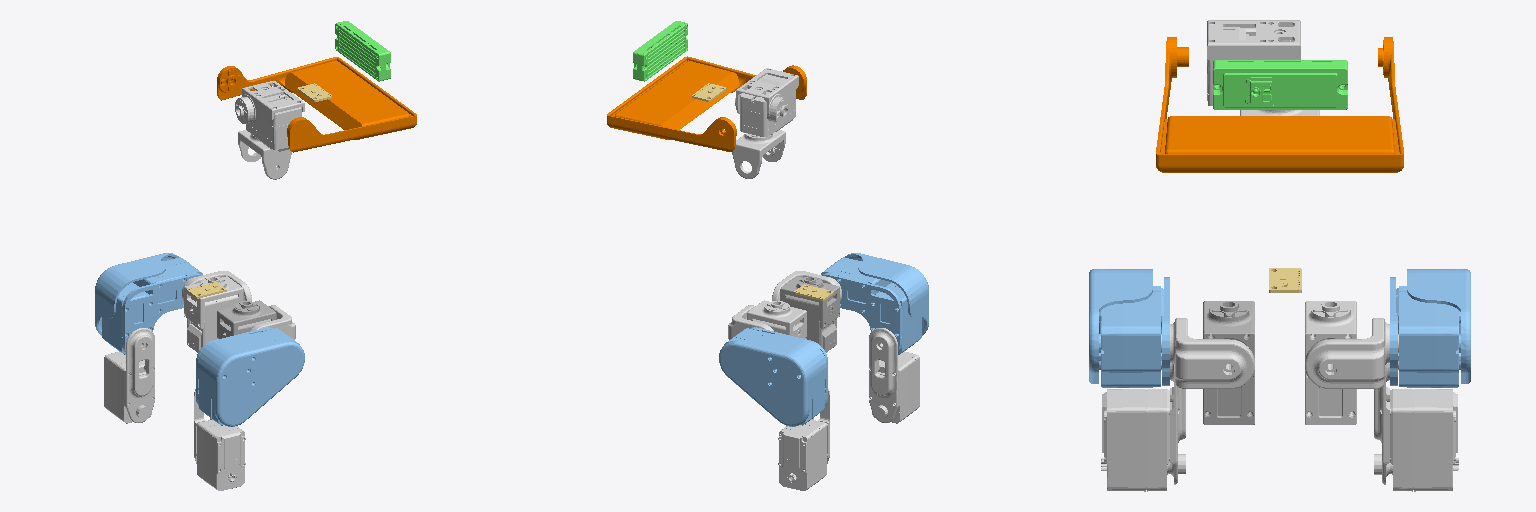
robot.urdf — duck_description:
<?xml version="1.0" encoding="utf-8"?>
<!-- This URDF was automatically created by SolidWorks to URDF Exporter! Originally created by Stephen Brawner (brawner@gmail.com) 
     Commit Version: 1.6.0-1-g15f4949  Build Version: 1.6.7594.29634
     For more information, please see http://wiki.ros.org/sw_urdf_exporter -->
<robot
  name="duck_description">
  <link
    name="base_link">
    <inertial>
      <origin
        xyz="-0.012938 5.4693E-05 0.14946"
        rpy="0 0 0" />
      <mass
        value="0.24013" />
      <inertia
        ixx="7.1931E-05"
        ixy="1.1129E-07"
        ixz="1.2683E-06"
        iyy="9.8159E-05"
        iyz="-5.5096E-08"
        izz="9.7082E-05" />
    </inertial>
    <visual>
      <origin
        xyz="0 0 0"
        rpy="0 0 0" />
      <geometry>
        <mesh
          filename="package://duck_description/meshes/base_link.STL" />
      </geometry>
      <material
        name="">
        <color
          rgba="0.75294 0.75294 0.75294 1" />
      </material>
    </visual>
    <collision>
      <origin
        xyz="0 0 0"
        rpy="0 0 0" />
      <geometry>
        <mesh
          filename="package://duck_description/meshes/base_link.STL" />
      </geometry>
    </collision>
  </link>
  <link
    name="imu_trunk">
    <inertial>
      <origin
        xyz="-0.0010369 5.9236E-05 -0.0012224"
        rpy="0 0 0" />
      <mass
        value="0.00062703" />
      <inertia
        ixx="3.3579E-08"
        ixy="-6.6997E-15"
        ixz="-1.7834E-14"
        iyy="1.2185E-08"
        iyz="1.3757E-15"
        izz="4.5501E-08" />
    </inertial>
    <visual>
      <origin
        xyz="0 0 0"
        rpy="0 0 0" />
      <geometry>
        <mesh
          filename="package://duck_description/meshes/imu_trunk.STL" />
      </geometry>
      <material
        name="">
        <color
          rgba="0.96863 0.87843 0.6 1" />
      </material>
    </visual>
    <collision>
      <origin
        xyz="0 0 0"
        rpy="0 0 0" />
      <geometry>
        <mesh
          filename="package://duck_description/meshes/imu_trunk.STL" />
      </geometry>
    </collision>
  </link>
  <joint
    name="imu_trunk"
    type="fixed">
    <origin
      xyz="-0.00615 0.001494 0.13508"
      rpy="0 0 -1.5708" />
    <parent
      link="base_link" />
    <child
      link="imu_trunk" />
    <axis
      xyz="0 0 0" />
  </joint>
  <link
    name="left_hip_yaw">
    <inertial>
      <origin
        xyz="0.00011846 0.00012525 -0.02829"
        rpy="0 0 0" />
      <mass
        value="0.051616" />
      <inertia
        ixx="8.9624E-06"
        ixy="-3.865E-10"
        ixz="-2.5666E-07"
        iyy="7.9407E-06"
        iyz="-1.2999E-09"
        izz="3.7009E-06" />
    </inertial>
    <visual>
      <origin
        xyz="0 0 0"
        rpy="0 0 0" />
      <geometry>
        <mesh
          filename="package://duck_description/meshes/left_hip_yaw.STL" />
      </geometry>
      <material
        name="">
        <color
          rgba="0.89412 0.89412 0.89412 1" />
      </material>
    </visual>
    <collision>
      <origin
        xyz="0 0 0"
        rpy="0 0 0" />
      <geometry>
        <mesh
          filename="package://duck_description/meshes/left_hip_yaw.STL" />
      </geometry>
    </collision>
  </link>
  <joint
    name="left_hip_yaw"
    type="revolute">
    <origin
      xyz="0.0125 0.0245 0.12725"
      rpy="0 0 0" />
    <parent
      link="base_link" />
    <child
      link="left_hip_yaw" />
    <axis
      xyz="0 0 1" />
    <limit
      lower="0"
      upper="0"
      effort="0"
      velocity="0" />
  </joint>
  <link
    name="left_hip_roll">
    <inertial>
      <origin
        xyz="-7.903E-06 0.014814 0.014726"
        rpy="0 0 0" />
      <mass
        value="0.015985" />
      <inertia
        ixx="3.8914E-06"
        ixy="2.0916E-12"
        ixz="-5.1023E-11"
        iyy="2.6235E-06"
        iyz="-1.1833E-06"
        izz="2.56E-06" />
    </inertial>
    <visual>
      <origin
        xyz="0 0 0"
        rpy="0 0 0" />
      <geometry>
        <mesh
          filename="package://duck_description/meshes/left_hip_roll.STL" />
      </geometry>
      <material
        name="">
        <color
          rgba="0.89412 0.89412 0.89412 1" />
      </material>
    </visual>
    <collision>
      <origin
        xyz="0 0 0"
        rpy="0 0 0" />
      <geometry>
        <mesh
          filename="package://duck_description/meshes/left_hip_roll.STL" />
      </geometry>
    </collision>
  </link>
  <joint
    name="left_hip_roll"
    type="revolute">
    <origin
      xyz="0.02938 0 -0.0182"
      rpy="0 -1.5708 0" />
    <parent
      link="left_hip_yaw" />
    <child
      link="left_hip_roll" />
    <axis
      xyz="0 0 1" />
    <limit
      lower="0"
      upper="0"
      effort="0"
      velocity="0" />
  </joint>
  <link
    name="left_hip_pitch">
    <inertial>
      <origin
        xyz="-0.031356 0.008146 0.028436"
        rpy="0 0 0" />
      <mass
        value="0.1031" />
      <inertia
        ixx="1.421E-05"
        ixy="1.1121E-06"
        ixz="-7.1167E-07"
        iyy="1.7342E-05"
        iyz="-7.6325E-07"
        izz="2.7271E-05" />
    </inertial>
    <visual>
      <origin
        xyz="0 0 0"
        rpy="0 0 0" />
      <geometry>
        <mesh
          filename="package://duck_description/meshes/left_hip_pitch.STL" />
      </geometry>
      <material
        name="">
        <color
          rgba="0.623529411764706 0.827450980392157 1 1" />
      </material>
    </visual>
    <collision>
      <origin
        xyz="0 0 0"
        rpy="0 0 0" />
      <geometry>
        <mesh
          filename="package://duck_description/meshes/left_hip_pitch.STL" />
      </geometry>
    </collision>
  </link>
  <joint
    name="left_hip_pitch"
    type="revolute">
    <origin
      xyz="0 0.0199 0.02938"
      rpy="1.5708 1.5708 3.1416" />
    <parent
      link="left_hip_roll" />
    <child
      link="left_hip_pitch" />
    <axis
      xyz="0 0 1" />
    <limit
      lower="0"
      upper="0"
      effort="0"
      velocity="0" />
  </joint>
  <link
    name="left_knee">
    <inertial>
      <origin
        xyz="0.00012581 0.037819 0.020408"
        rpy="0 0 0" />
      <mass
        value="0.051464" />
      <inertia
        ixx="1.011E-05"
        ixy="-1.0643E-09"
        ixz="-3.771E-10"
        iyy="2.8633E-06"
        iyz="2.9834E-08"
        izz="1.1652E-05" />
    </inertial>
    <visual>
      <origin
        xyz="0 0 0"
        rpy="0 0 0" />
      <geometry>
        <mesh
          filename="package://duck_description/meshes/left_knee.STL" />
      </geometry>
      <material
        name="">
        <color
          rgba="0.89412 0.89412 0.89412 1" />
      </material>
    </visual>
    <collision>
      <origin
        xyz="0 0 0"
        rpy="0 0 0" />
      <geometry>
        <mesh
          filename="package://duck_description/meshes/left_knee.STL" />
      </geometry>
    </collision>
  </link>
  <joint
    name="left_knee"
    type="revolute">
    <origin
      xyz="-0.0476 0.0313 0.0009"
      rpy="0 0 0" />
    <parent
      link="left_hip_pitch" />
    <child
      link="left_knee" />
    <axis
      xyz="0 0 1" />
    <limit
      lower="0"
      upper="0"
      effort="0"
      velocity="0" />
  </joint>
  <link
    name="left_ankle">
    <inertial>
      <origin
        xyz="0.0060624 -0.012193 0.020606"
        rpy="0 0 0" />
      <mass
        value="0.036632" />
      <inertia
        ixx="8.5264E-06"
        ixy="-1.9177E-07"
        ixz="-1.3408E-08"
        iyy="1.8518E-05"
        iyz="9.0623E-08"
        izz="1.1561E-05" />
    </inertial>
    <visual>
      <origin
        xyz="0 0 0"
        rpy="0 0 0" />
      <geometry>
        <mesh
          filename="package://duck_description/meshes/left_ankle.STL" />
      </geometry>
      <material
        name="">
        <color
          rgba="1 1 0 1" />
      </material>
    </visual>
    <collision>
      <origin
        xyz="0 0 0"
        rpy="0 0 0" />
      <geometry>
        <mesh
          filename="package://duck_description/meshes/left_ankle.STL" />
      </geometry>
    </collision>
  </link>
  <joint
    name="left_ankle"
    type="revolute">
    <origin
      xyz="0 0.05515 0.04318"
      rpy="-3.1416 0 0" />
    <parent
      link="left_knee" />
    <child
      link="left_ankle" />
    <axis
      xyz="0 0 1" />
    <limit
      lower="0"
      upper="0"
      effort="0"
      velocity="0" />
  </joint>
  <link
    name="right_hip_yaw">
    <inertial>
      <origin
        xyz="0.00011846 0.00012525 -0.02829"
        rpy="0 0 0" />
      <mass
        value="0.051616" />
      <inertia
        ixx="8.9624E-06"
        ixy="-3.865E-10"
        ixz="-2.5666E-07"
        iyy="7.9407E-06"
        iyz="-1.2999E-09"
        izz="3.7009E-06" />
    </inertial>
    <visual>
      <origin
        xyz="0 0 0"
        rpy="0 0 0" />
      <geometry>
        <mesh
          filename="package://duck_description/meshes/right_hip_yaw.STL" />
      </geometry>
      <material
        name="">
        <color
          rgba="0.75294 0.75294 0.75294 1" />
      </material>
    </visual>
    <collision>
      <origin
        xyz="0 0 0"
        rpy="0 0 0" />
      <geometry>
        <mesh
          filename="package://duck_description/meshes/right_hip_yaw.STL" />
      </geometry>
    </collision>
  </link>
  <joint
    name="right_hip_yaw"
    type="revolute">
    <origin
      xyz="0.0125 -0.0245 0.12725"
      rpy="0 0 0" />
    <parent
      link="base_link" />
    <child
      link="right_hip_yaw" />
    <axis
      xyz="0 0 1" />
    <limit
      lower="0"
      upper="0"
      effort="0"
      velocity="0" />
  </joint>
  <link
    name="right_hip_roll">
    <inertial>
      <origin
        xyz="-7.88409496666614E-06 -0.0148142883676243 0.0147264378503851"
        rpy="0 0 0" />
      <mass
        value="0.0159849446274238" />
      <inertia
        ixx="3.89142456005809E-06"
        ixy="2.09161996956269E-12"
        ixz="-4.75251998759574E-11"
        iyy="2.62353920590714E-06"
        iyz="1.18325997583147E-06"
        izz="2.5600350437619E-06" />
    </inertial>
    <visual>
      <origin
        xyz="0 0 0"
        rpy="0 0 0" />
      <geometry>
        <mesh
          filename="package://duck_description/meshes/right_hip_roll.STL" />
      </geometry>
      <material
        name="">
        <color
          rgba="0.894117647058823 0.894117647058823 0.894117647058823 1" />
      </material>
    </visual>
    <collision>
      <origin
        xyz="0 0 0"
        rpy="0 0 0" />
      <geometry>
        <mesh
          filename="package://duck_description/meshes/right_hip_roll.STL" />
      </geometry>
    </collision>
  </link>
  <joint
    name="right_hip_roll"
    type="revolute">
    <origin
      xyz="0.02938 0 -0.0182"
      rpy="0 -1.5708 0" />
    <parent
      link="right_hip_yaw" />
    <child
      link="right_hip_roll" />
    <axis
      xyz="0 0 1" />
    <limit
      lower="0"
      upper="0"
      effort="0"
      velocity="0" />
  </joint>
  <link
    name="right_hip_pitch">
    <inertial>
      <origin
        xyz="-0.0312185143901472 -0.00802967335681209 0.0285774237350866"
        rpy="0 0 0" />
      <mass
        value="0.10231760265245" />
      <inertia
        ixx="1.40628758220275E-05"
        ixy="-1.03878194814449E-06"
        ixz="-7.09545910746289E-07"
        iyy="1.70642069202652E-05"
        iyz="7.62640693742252E-07"
        izz="2.68468147965349E-05" />
    </inertial>
    <visual>
      <origin
        xyz="0 0 0"
        rpy="0 0 0" />
      <geometry>
        <mesh
          filename="package://duck_description/meshes/right_hip_pitch.STL" />
      </geometry>
      <material
        name="">
        <color
          rgba="0.623529411764706 0.827450980392157 1 1" />
      </material>
    </visual>
    <collision>
      <origin
        xyz="0 0 0"
        rpy="0 0 0" />
      <geometry>
        <mesh
          filename="package://duck_description/meshes/right_hip_pitch.STL" />
      </geometry>
    </collision>
  </link>
  <joint
    name="right_hip_pitch"
    type="revolute">
    <origin
      xyz="0 -0.0199 0.02938"
      rpy="1.5708 1.5708 0" />
    <parent
      link="right_hip_roll" />
    <child
      link="right_hip_pitch" />
    <axis
      xyz="0 0 1" />
    <limit
      lower="0"
      upper="0"
      effort="0"
      velocity="0" />
  </joint>
  <link
    name="right_knee">
    <inertial>
      <origin
        xyz="-0.00012581489427578 -0.0378185333727036 0.0204081724374644"
        rpy="0 0 0" />
      <mass
        value="0.0514638464682465" />
      <inertia
        ixx="1.0110420942603E-05"
        ixy="-1.06427087010513E-09"
        ixz="3.77094010133538E-10"
        iyy="2.86325621762315E-06"
        iyz="-2.98336710269881E-08"
        izz="1.16517445518922E-05" />
    </inertial>
    <visual>
      <origin
        xyz="0 0 0"
        rpy="0 0 0" />
      <geometry>
        <mesh
          filename="package://duck_description/meshes/right_knee.STL" />
      </geometry>
      <material
        name="">
        <color
          rgba="0.894117647058823 0.894117647058823 0.894117647058823 1" />
      </material>
    </visual>
    <collision>
      <origin
        xyz="0 0 0"
        rpy="0 0 0" />
      <geometry>
        <mesh
          filename="package://duck_description/meshes/right_knee.STL" />
      </geometry>
    </collision>
  </link>
  <joint
    name="right_knee"
    type="revolute">
    <origin
      xyz="-0.0476 -0.0313 0.0009"
      rpy="0 0 0" />
    <parent
      link="right_hip_pitch" />
    <child
      link="right_knee" />
    <axis
      xyz="0 0 -1" />
    <limit
      lower="0"
      upper="0"
      effort="0"
      velocity="0" />
  </joint>
  <link
    name="right_ankle">
    <inertial>
      <origin
        xyz="0.0060477 -0.012193 0.023467"
        rpy="0 0 0" />
      <mass
        value="0.036632" />
      <inertia
        ixx="8.5264E-06"
        ixy="-1.9177E-07"
        ixz="1.3882E-08"
        iyy="1.8518E-05"
        iyz="-9.0609E-08"
        izz="1.1561E-05" />
    </inertial>
    <visual>
      <origin
        xyz="0 0 0"
        rpy="0 0 0" />
      <geometry>
        <mesh
          filename="package://duck_description/meshes/right_ankle.STL" />
      </geometry>
      <material
        name="">
        <color
          rgba="1 1 0 1" />
      </material>
    </visual>
    <collision>
      <origin
        xyz="0 0 0"
        rpy="0 0 0" />
      <geometry>
        <mesh
          filename="package://duck_description/meshes/right_ankle.STL" />
      </geometry>
    </collision>
  </link>
  <joint
    name="right_ankle"
    type="revolute">
    <origin
      xyz="0 -0.05515 -0.00082"
      rpy="0 0 0" />
    <parent
      link="right_knee" />
    <child
      link="right_ankle" />
    <axis
      xyz="0 0 1" />
    <limit
      lower="0"
      upper="0"
      effort="0"
      velocity="0" />
  </joint>
  <link
    name="nick_pitch">
    <inertial>
      <origin
        xyz="-0.012938 5.4693E-05 0.14946"
        rpy="0 0 0" />
      <mass
        value="0.24013" />
      <inertia
        ixx="7.1931E-05"
        ixy="1.1129E-07"
        ixz="1.2683E-06"
        iyy="9.8159E-05"
        iyz="-5.5096E-08"
        izz="9.7082E-05" />
    </inertial>
    <visual>
      <origin
        xyz="0 0 0"
        rpy="0 0 0" />
      <geometry>
        <mesh
          filename="package://duck_description/meshes/nick_pitch.STL" />
      </geometry>
      <material
        name="">
        <color
          rgba="0.75294 0.75294 0.75294 1" />
      </material>
    </visual>
    <collision>
      <origin
        xyz="0 0 0"
        rpy="0 0 0" />
      <geometry>
        <mesh
          filename="package://duck_description/meshes/nick_pitch.STL" />
      </geometry>
    </collision>
  </link>
  <joint
    name="nick_pitch"
    type="revolute">
    <origin
      xyz="0.04221 -0.0222 0.16204"
      rpy="-1.5708 0 0" />
    <parent
      link="base_link" />
    <child
      link="nick_pitch" />
    <axis
      xyz="0 0 -1" />
    <limit
      lower="0"
      upper="0"
      effort="0"
      velocity="0" />
  </joint>
  <link
    name="head_pitch">
    <inertial>
      <origin
        xyz="1.2552E-09 -0.011442 0.018476"
        rpy="0 0 0" />
      <mass
        value="0.0073144" />
      <inertia
        ixx="1.473E-06"
        ixy="3.3809E-14"
        ixz="9.309E-14"
        iyy="1.5281E-06"
        iyz="-1.4555E-08"
        izz="6.8302E-07" />
    </inertial>
    <visual>
      <origin
        xyz="0 0 0"
        rpy="0 0 0" />
      <geometry>
        <mesh
          filename="package://duck_description/meshes/head_pitch.STL" />
      </geometry>
      <material
        name="">
        <color
          rgba="0.89412 0.89412 0.89412 1" />
      </material>
    </visual>
    <collision>
      <origin
        xyz="0 0 0"
        rpy="0 0 0" />
      <geometry>
        <mesh
          filename="package://duck_description/meshes/head_pitch.STL" />
      </geometry>
    </collision>
  </link>
  <joint
    name="head_pitch"
    type="revolute">
    <origin
      xyz="0 -0.0698 0.003"
      rpy="0 0 0" />
    <parent
      link="nick_pitch" />
    <child
      link="head_pitch" />
    <axis
      xyz="0 0 1" />
    <limit
      lower="0"
      upper="0"
      effort="0"
      velocity="0" />
  </joint>
  <link
    name="head_yaw">
    <inertial>
      <origin
        xyz="-0.00084201 -0.012704 0.018071"
        rpy="0 0 0" />
      <mass
        value="0.049809" />
      <inertia
        ixx="7.8041E-06"
        ixy="2.008E-07"
        ixz="-1.3498E-07"
        iyy="3.9005E-06"
        iyz="1.9554E-07"
        izz="9.8355E-06" />
    </inertial>
    <visual>
      <origin
        xyz="0 0 0"
        rpy="0 0 0" />
      <geometry>
        <mesh
          filename="package://duck_description/meshes/head_yaw.STL" />
      </geometry>
      <material
        name="">
        <color
          rgba="0.89412 0.89412 0.89412 1" />
      </material>
    </visual>
    <collision>
      <origin
        xyz="0 0 0"
        rpy="0 0 0" />
      <geometry>
        <mesh
          filename="package://duck_description/meshes/head_yaw.STL" />
      </geometry>
    </collision>
  </link>
  <joint
    name="head_yaw"
    type="revolute">
    <origin
      xyz="0 -0.0206 0.0192"
      rpy="1.5708 0 0" />
    <parent
      link="head_pitch" />
    <child
      link="head_yaw" />
    <axis
      xyz="0 0 1" />
    <limit
      lower="0"
      upper="0"
      effort="0"
      velocity="0" />
  </joint>
  <link
    name="head_yoll">
    <inertial>
      <origin
        xyz="0.0028601 -0.006531 -0.033131"
        rpy="0 0 0" />
      <mass
        value="0.23475" />
      <inertia
        ixx="0.00022418"
        ixy="6.0733E-07"
        ixz="2.2773E-06"
        iyy="0.00037828"
        iyz="-1.7338E-05"
        izz="0.00020243" />
    </inertial>
    <visual>
      <origin
        xyz="0 0 0"
        rpy="0 0 0" />
      <geometry>
        <mesh
          filename="package://duck_description/meshes/head_yoll.STL" />
      </geometry>
      <material
        name="">
        <color
          rgba="0.75294 0.75294 0.75294 1" />
      </material>
    </visual>
    <collision>
      <origin
        xyz="0 0 0"
        rpy="0 0 0" />
      <geometry>
        <mesh
          filename="package://duck_description/meshes/head_yoll.STL" />
      </geometry>
    </collision>
  </link>
  <joint
    name="head_yoll"
    type="revolute">
    <origin
      xyz="-0.02062 0 0.02243"
      rpy="-1.5708 0 1.5708" />
    <parent
      link="head_yaw" />
    <child
      link="head_yoll" />
    <axis
      xyz="0 0 1" />
    <limit
      lower="0"
      upper="0"
      effort="0"
      velocity="0" />
  </joint>
  <link
    name="imu_head">
    <inertial>
      <origin
        xyz="-0.0010369 5.9236E-05 -0.0012224"
        rpy="0 0 0" />
      <mass
        value="0.00062703" />
      <inertia
        ixx="3.3579E-08"
        ixy="-6.6997E-15"
        ixz="-1.7834E-14"
        iyy="1.2185E-08"
        iyz="1.3757E-15"
        izz="4.5501E-08" />
    </inertial>
    <visual>
      <origin
        xyz="0 0 0"
        rpy="0 0 0" />
      <geometry>
        <mesh
          filename="package://duck_description/meshes/imu_head.STL" />
      </geometry>
      <material
        name="">
        <color
          rgba="0.96863 0.87843 0.6 1" />
      </material>
    </visual>
    <collision>
      <origin
        xyz="0 0 0"
        rpy="0 0 0" />
      <geometry>
        <mesh
          filename="package://duck_description/meshes/imu_head.STL" />
      </geometry>
    </collision>
  </link>
  <joint
    name="imu_head"
    type="fixed">
    <origin
      xyz="0 -0.0015501 -0.062314"
      rpy="1.5708 -1.5708 0" />
    <parent
      link="head_yoll" />
    <child
      link="imu_head" />
    <axis
      xyz="0 0 0" />
  </joint>
  <link
    name="jaw">
    <inertial>
      <origin
        xyz="0.067933 -0.011837 0.051392"
        rpy="0 0 0" />
      <mass
        value="0.082146" />
      <inertia
        ixx="0.00010632"
        ixy="3.64E-06"
        ixz="3.4538E-06"
        iyy="0.00014207"
        iyz="-7.1615E-07"
        izz="3.8721E-05" />
    </inertial>
    <visual>
      <origin
        xyz="0 0 0"
        rpy="0 0 0" />
      <geometry>
        <mesh
          filename="package://duck_description/meshes/jaw.STL" />
      </geometry>
      <material
        name="">
        <color
          rgba="1 0.54902 0 1" />
      </material>
    </visual>
    <collision>
      <origin
        xyz="0 0 0"
        rpy="0 0 0" />
      <geometry>
        <mesh
          filename="package://duck_description/meshes/jaw.STL" />
      </geometry>
    </collision>
  </link>
  <joint
    name="jaw"
    type="revolute">
    <origin
      xyz="0.05092 -0.00026 -0.02062"
      rpy="3.1416 1.5708 0" />
    <parent
      link="head_yoll" />
    <child
      link="jaw" />
    <axis
      xyz="0 0 1" />
    <limit
      lower="0"
      upper="0"
      effort="0"
      velocity="0" />
  </joint>
  <link
    name="camera_mount">
    <inertial>
      <origin
        xyz="0.00021788 -0.00033066 -7.7012E-05"
        rpy="0 0 0" />
      <mass
        value="0.01275" />
      <inertia
        ixx="4.7679E-06"
        ixy="-6.7367E-10"
        ixz="4.9723E-10"
        iyy="5.4066E-07"
        iyz="3.384E-09"
        izz="4.3005E-06" />
    </inertial>
    <visual>
      <origin
        xyz="0 0 0"
        rpy="0 0 0" />
      <geometry>
        <mesh
          filename="package://duck_description/meshes/camera_mount.STL" />
      </geometry>
      <material
        name="">
        <color
          rgba="0.50196 1 0.50196 1" />
      </material>
    </visual>
    <collision>
      <origin
        xyz="0 0 0"
        rpy="0 0 0" />
      <geometry>
        <mesh
          filename="package://duck_description/meshes/camera_mount.STL" />
      </geometry>
    </collision>
  </link>
  <joint
    name="camera_mount"
    type="fixed">
    <origin
      xyz="0.0002 -0.024739 -0.10702"
      rpy="1.5708 1.5708 0" />
    <parent
      link="head_yoll" />
    <child
      link="camera_mount" />
    <axis
      xyz="0 0 0" />
  </joint>
</robot>

--- Render facts (derived) ---
Views: 3 orthographic renders of the robot side by side, from view 1: azimuth 30°, elevation 25°; view 2: azimuth 150°, elevation 25°; view 3: azimuth 270°, elevation 25°.
Model duck_description with 19 links and 18 joints (15 revolute, 3 fixed), rooted at base_link, posed every joint at zero.
Links seen in each view (by area): view 1: jaw, right_hip_pitch, left_hip_pitch, left_knee, right_knee, head_yaw, left_hip_yaw, camera_mount, right_hip_yaw, head_pitch, right_hip_roll; view 2: left_hip_pitch, jaw, right_hip_pitch, right_knee, head_yaw, left_knee, right_hip_yaw, camera_mount, head_pitch, left_hip_yaw, left_hip_roll; view 3: jaw, left_hip_pitch, right_hip_pitch, left_knee, right_knee, camera_mount, left_hip_roll, right_hip_roll, left_hip_yaw, right_hip_yaw, head_yaw, imu_trunk.
Link boxes in pixels (<box>): jaw: <box>217,57,416,152</box>; right_hip_pitch: <box>196,327,304,426</box>; left_hip_pitch: <box>95,253,202,354</box>; left_knee: <box>104,328,154,423</box>; right_knee: <box>194,389,245,490</box>; head_yaw: <box>235,81,304,151</box>; left_hip_yaw: <box>184,276,243,352</box>; camera_mount: <box>335,21,390,81</box>; right_hip_yaw: <box>217,300,276,339</box>; head_pitch: <box>238,130,291,179</box>; right_hip_roll: <box>250,305,295,339</box>; left_hip_pitch: <box>719,327,827,426</box>; jaw: <box>607,56,806,151</box>; right_hip_pitch: <box>821,253,928,354</box>; right_knee: <box>869,328,919,423</box>; head_yaw: <box>735,68,798,136</box>; left_knee: <box>778,389,829,490</box>; right_hip_yaw: <box>780,276,839,352</box>; camera_mount: <box>633,21,687,81</box>; head_pitch: <box>732,130,785,178</box>; left_hip_yaw: <box>747,300,806,338</box>; left_hip_roll: <box>728,305,773,339</box>; jaw: <box>1156,37,1403,172</box>; left_hip_pitch: <box>1390,269,1470,387</box>; right_hip_pitch: <box>1089,269,1169,387</box>; left_knee: <box>1374,361,1458,491</box>; right_knee: <box>1101,361,1185,491</box>; camera_mount: <box>1213,60,1347,109</box>; left_hip_roll: <box>1305,318,1398,388</box>; right_hip_roll: <box>1161,318,1254,388</box>; left_hip_yaw: <box>1305,301,1356,424</box>; right_hip_yaw: <box>1203,301,1254,424</box>; head_yaw: <box>1207,20,1300,105</box>; imu_trunk: <box>1269,268,1301,292</box>.
Size in the robot's own frame: 0.1904 by 0.1846 by 0.2985 metres.
14 mesh visuals loaded from 19 distinct referenced files (14 binary STL); not drawn: 5 (reference not matched to a file when rendering).
